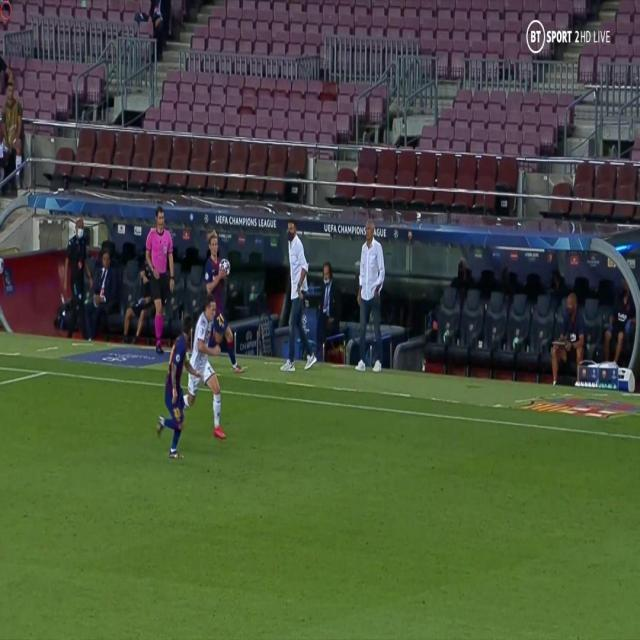ball: (217, 256, 230, 281)
player: (194, 223, 248, 381), (174, 294, 228, 443), (156, 318, 197, 462)
referee: (138, 202, 177, 355)
